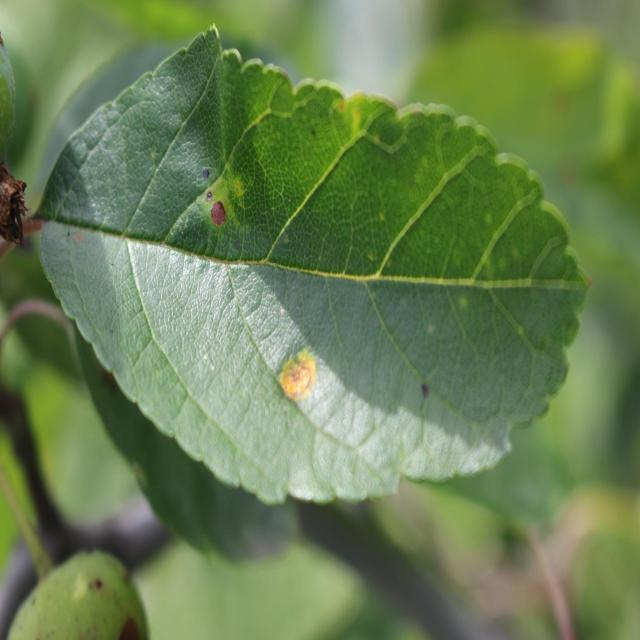Black Rot: (191, 147, 237, 240)
Rust: (269, 332, 322, 426)
